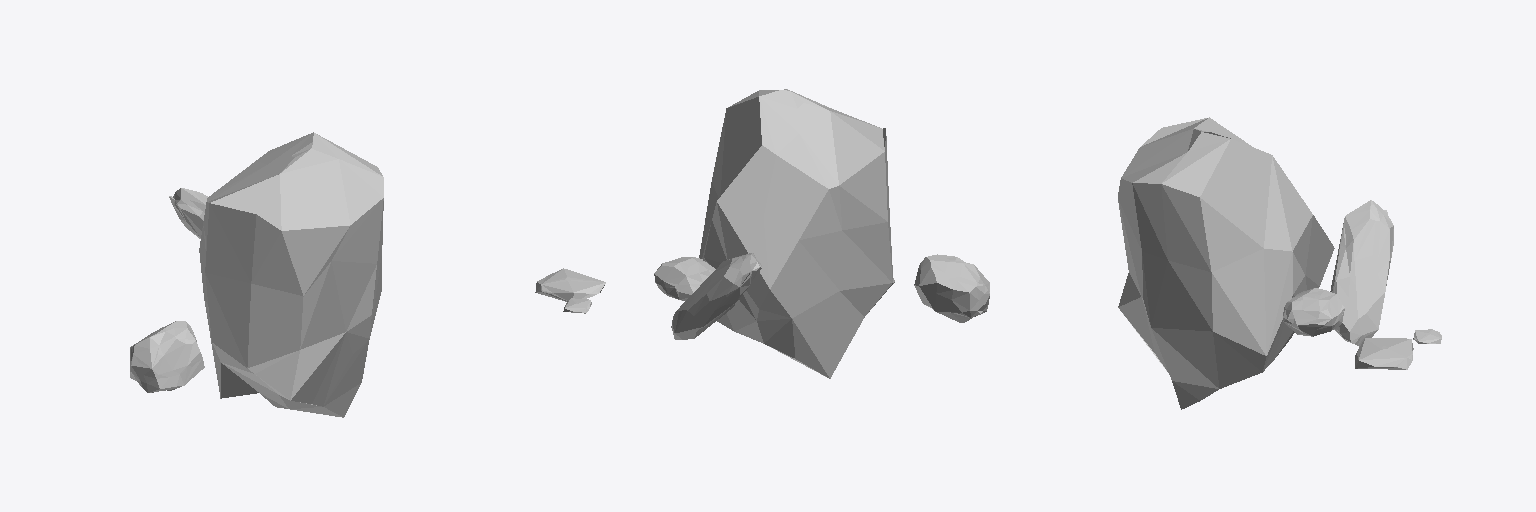
File: RockGroupB.obj
3 views of the same model, side by side, from view 1: azimuth 30°, elevation 25°; view 2: azimuth 150°, elevation 25°; view 3: azimuth 270°, elevation 25° (orthographic).
Parts seen in each view (by area): view 1: RockGroup_Cube.003; view 2: RockGroup_Cube.003; view 3: RockGroup_Cube.003.
Part boxes in pixels (x1,y1,x2,y2): RockGroup_Cube.003: (130, 132, 383, 417); RockGroup_Cube.003: (535, 89, 989, 378); RockGroup_Cube.003: (1118, 117, 1441, 409).
Bounding box in the file's own units: 2.08 × 1.54 × 1.68.